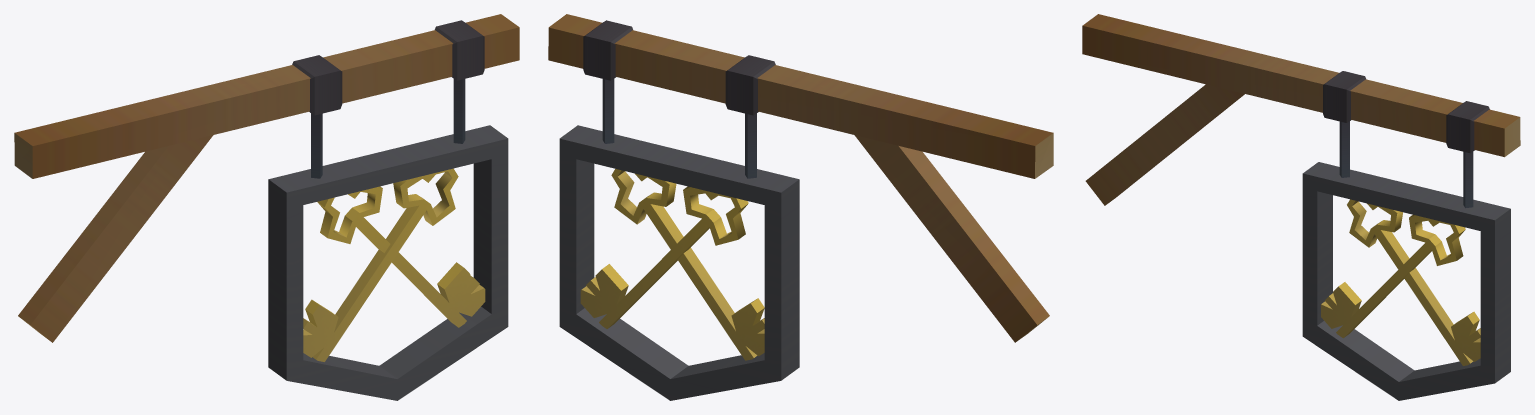
Rendered from SignBoard_6_LOD1.fbx.
3 views of the same model, side by side, from view 1: azimuth 30°, elevation 25°; view 2: azimuth 150°, elevation 25°; view 3: azimuth 330°, elevation 25° (orthographic). The views are drawn at different scales.
Visible parts, largest first — view 1: polySurface10658; view 2: polySurface10658; view 3: polySurface10658.
Part boxes in pixels (x1,y1,x2,y2): polySurface10658: (14,14,519,400); polySurface10658: (548,14,1053,400); polySurface10658: (1082,14,1520,400).
Size of the model in its own units: 308 by 209 by 23.29.
